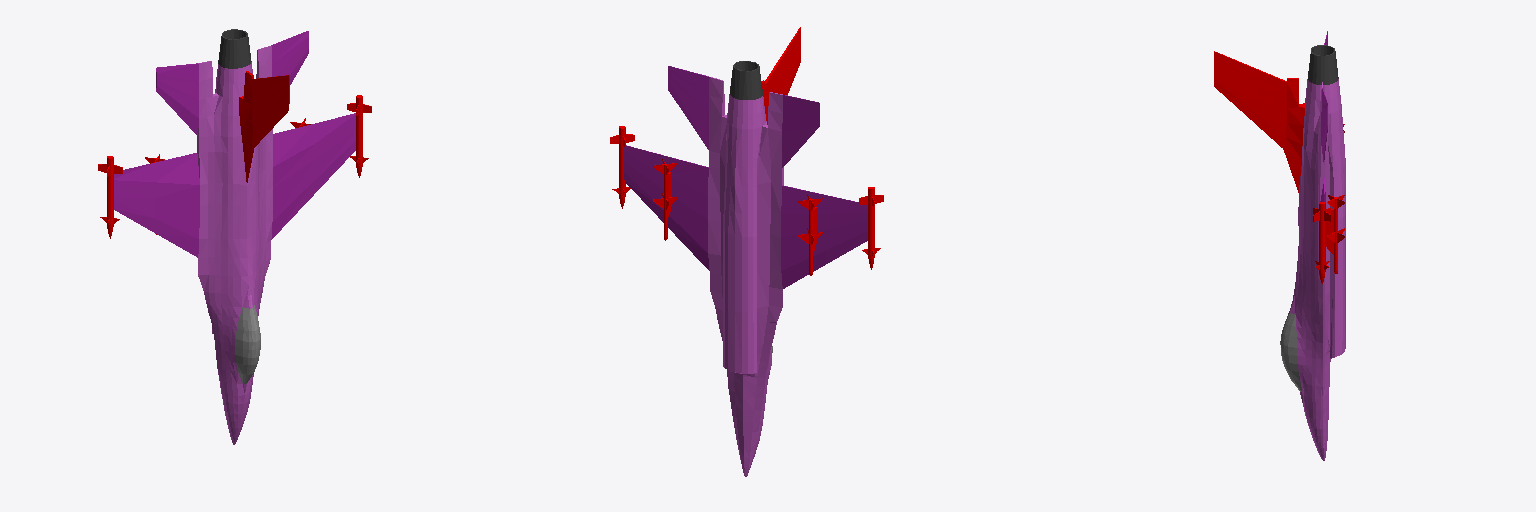
3 renders of one model, left to right at view 1: azimuth 30°, elevation 25°; view 2: azimuth 150°, elevation 25°; view 3: azimuth 270°, elevation 25°, orthographic.
Parts seen in each view (by area): view 1: objf16body, objwings, objstabs, objrudder, objbombs, objglass, objthrust; view 2: objf16body, objwings, objstabs, objbombs, objrudder, objthrust; view 3: objf16body, objrudder, objbombs, objthrust, objglass.
Boxes of the visible parts, x1=… form: objf16body: x1=197, y1=46, x2=272, y2=444; objwings: x1=114, y1=113, x2=355, y2=257; objstabs: x1=156, y1=31, x2=308, y2=135; objrudder: x1=239, y1=71, x2=289, y2=182; objbombs: x1=98, y1=95, x2=371, y2=238; objglass: x1=235, y1=305, x2=260, y2=383; objthrust: x1=218, y1=29, x2=251, y2=68; objf16body: x1=708, y1=77, x2=783, y2=476; objwings: x1=624, y1=145, x2=867, y2=288; objstabs: x1=668, y1=66, x2=819, y2=167; objbombs: x1=610, y1=126, x2=883, y2=275; objrudder: x1=761, y1=27, x2=800, y2=124; objthrust: x1=730, y1=61, x2=762, y2=99; objf16body: x1=1289, y1=79, x2=1345, y2=460; objrudder: x1=1214, y1=51, x2=1304, y2=192; objbombs: x1=1313, y1=124, x2=1344, y2=283; objthrust: x1=1308, y1=45, x2=1338, y2=84; objglass: x1=1280, y1=313, x2=1301, y2=391.
Size of the model in its own units: 7.92 by 11.76 by 3.41.